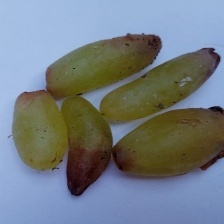grapes: (36, 20, 179, 174)
